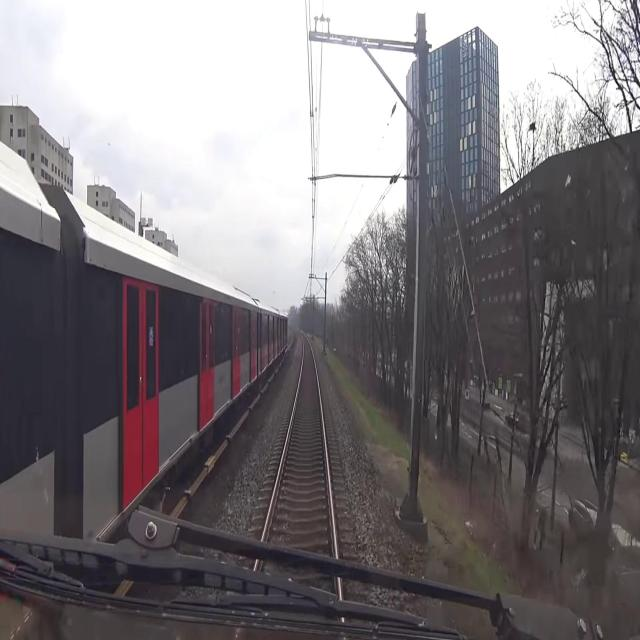rail-track: (267, 335, 332, 545)
